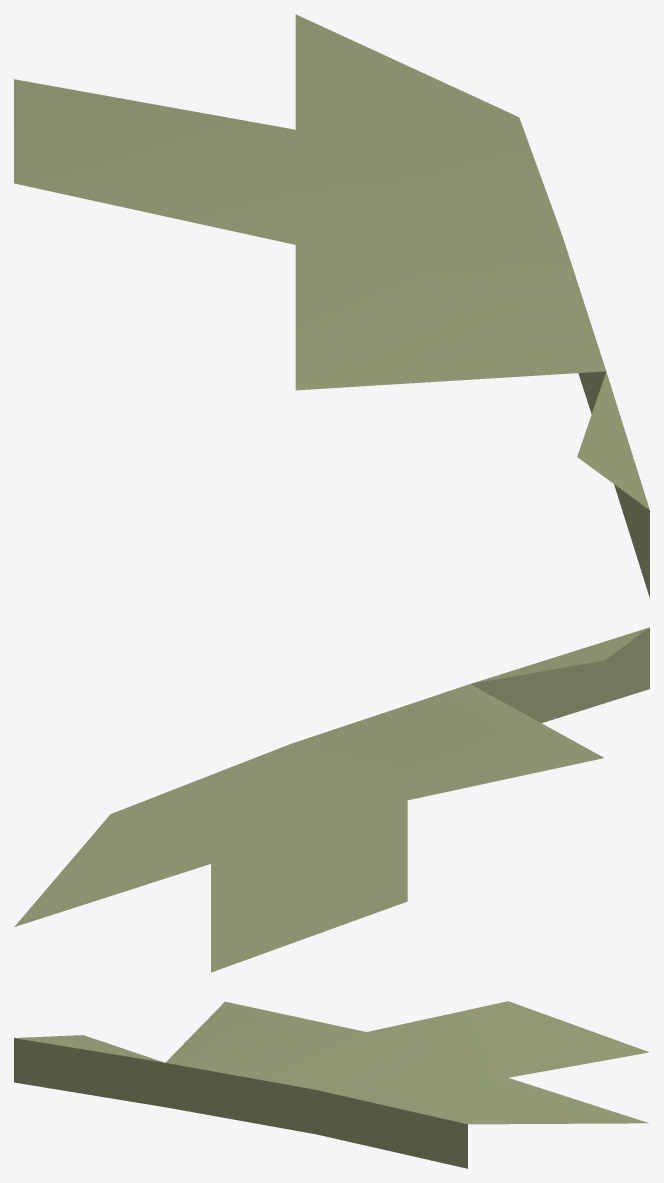
3 views of the same model, one above another, from view 1: azimuth 30°, elevation 25°; view 2: azimuth 150°, elevation 25°; view 3: azimuth 270°, elevation 25° (orthographic). The views are drawn at different scales.
Parts seen in each view (by area): view 1: SW_ground_descent_lawn_3_4; view 2: SW_ground_descent_lawn_3_4; view 3: SW_ground_descent_lawn_3_4.
Part boxes in pixels (x1=…): SW_ground_descent_lawn_3_4: x1=14, y1=14, x2=649, y2=597; SW_ground_descent_lawn_3_4: x1=14, y1=627, x2=649, y2=972; SW_ground_descent_lawn_3_4: x1=14, y1=1001, x2=649, y2=1168.
Bounding box in the file's own units: 3.3 × 0.7708 × 7.78.
